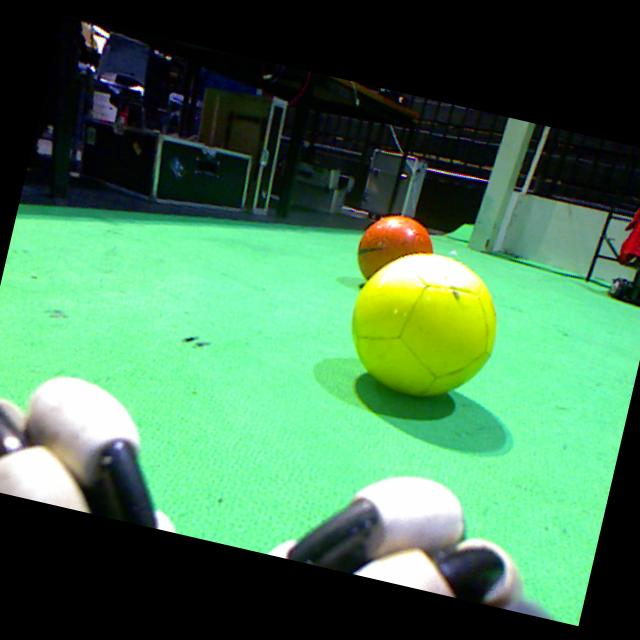ball: (351, 252, 495, 397), (357, 216, 433, 281)
goal: (467, 117, 528, 253)
